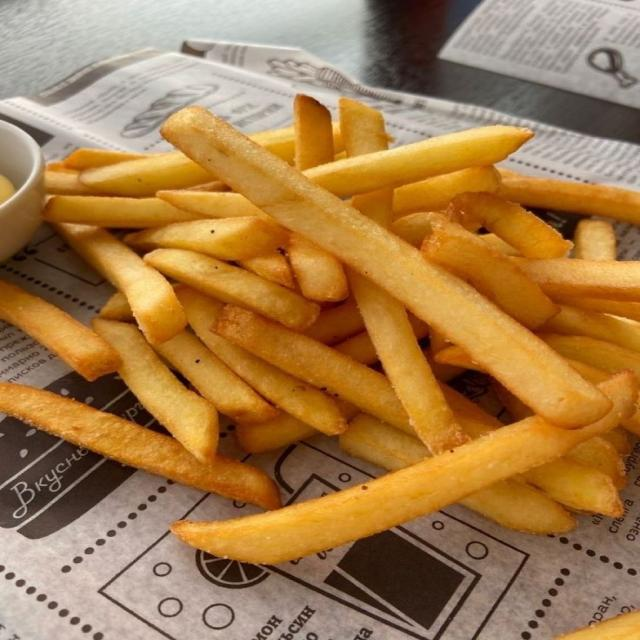potato fries: (162, 107, 610, 427), (172, 374, 637, 563), (0, 383, 280, 508), (214, 306, 412, 432), (178, 287, 346, 435), (347, 270, 465, 454), (94, 319, 218, 463), (55, 224, 186, 344), (421, 218, 557, 328), (145, 249, 319, 330), (0, 280, 120, 380), (155, 331, 279, 422), (450, 192, 572, 258), (500, 172, 639, 224), (125, 217, 288, 260), (80, 151, 215, 196), (460, 481, 574, 534), (508, 258, 639, 301), (521, 457, 619, 514), (394, 166, 500, 217), (44, 196, 199, 228), (538, 334, 639, 382), (537, 305, 639, 352), (289, 235, 348, 301), (237, 413, 323, 453), (158, 190, 266, 217), (295, 95, 333, 170), (306, 299, 363, 344), (237, 251, 294, 288), (63, 148, 157, 170), (574, 219, 616, 260), (333, 331, 378, 365)
